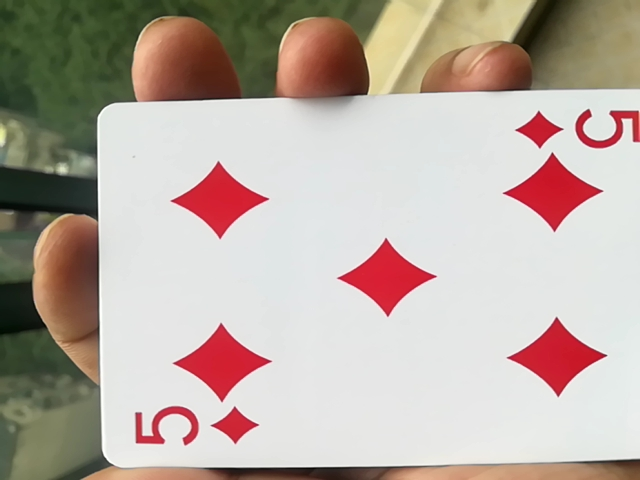fk 5: (82, 91, 637, 479)
